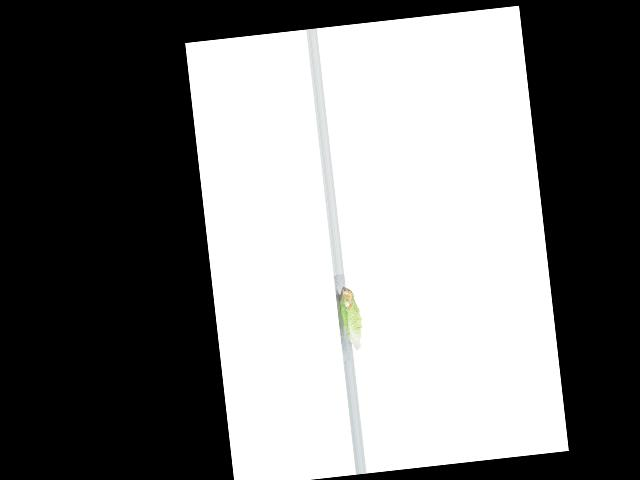lettuce: (334, 282, 367, 352)
